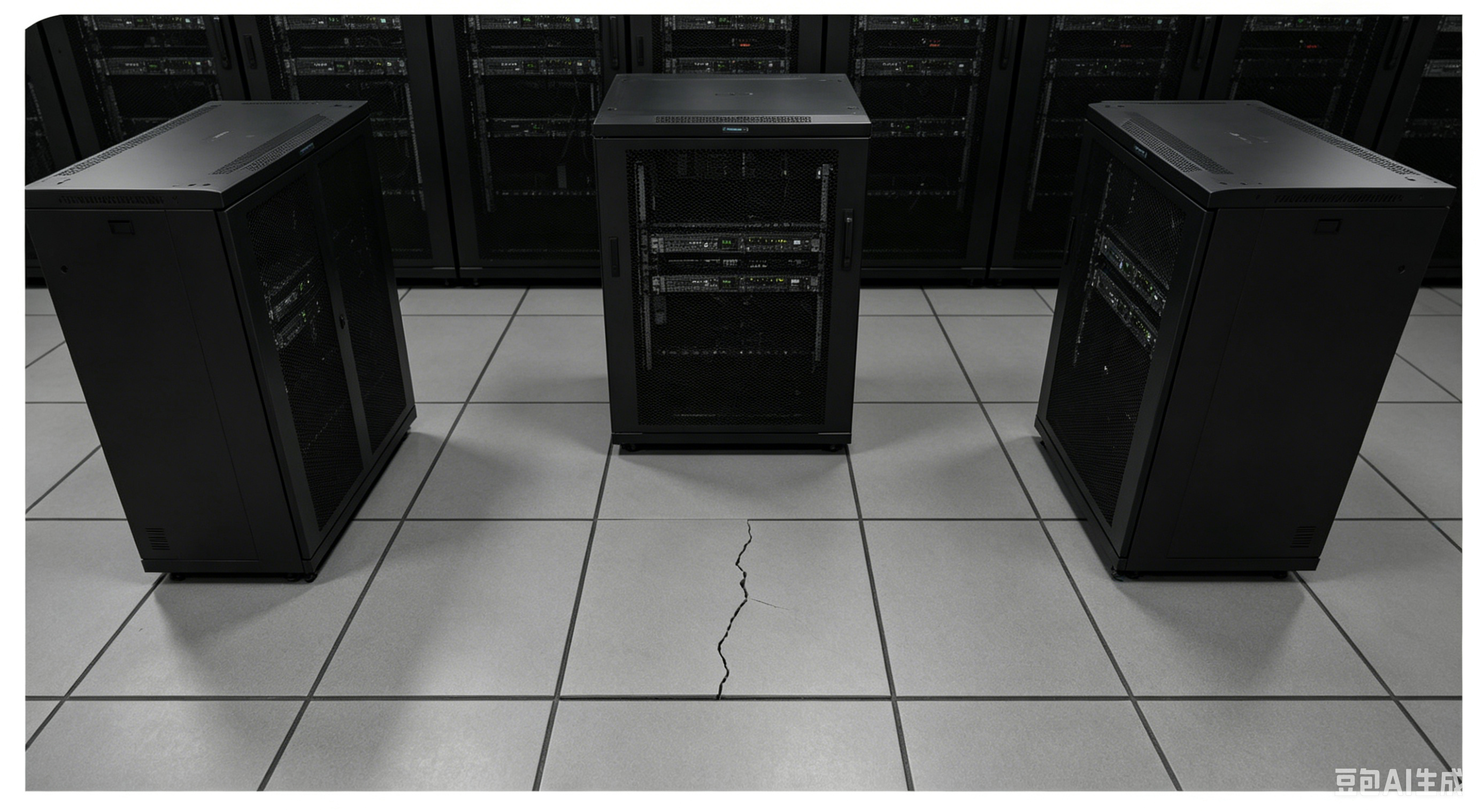floor_defect: (708, 521, 765, 697)
